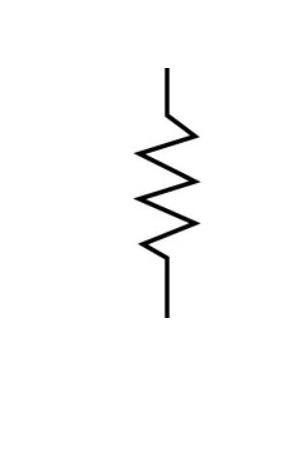resistor: (118, 88, 208, 296)
